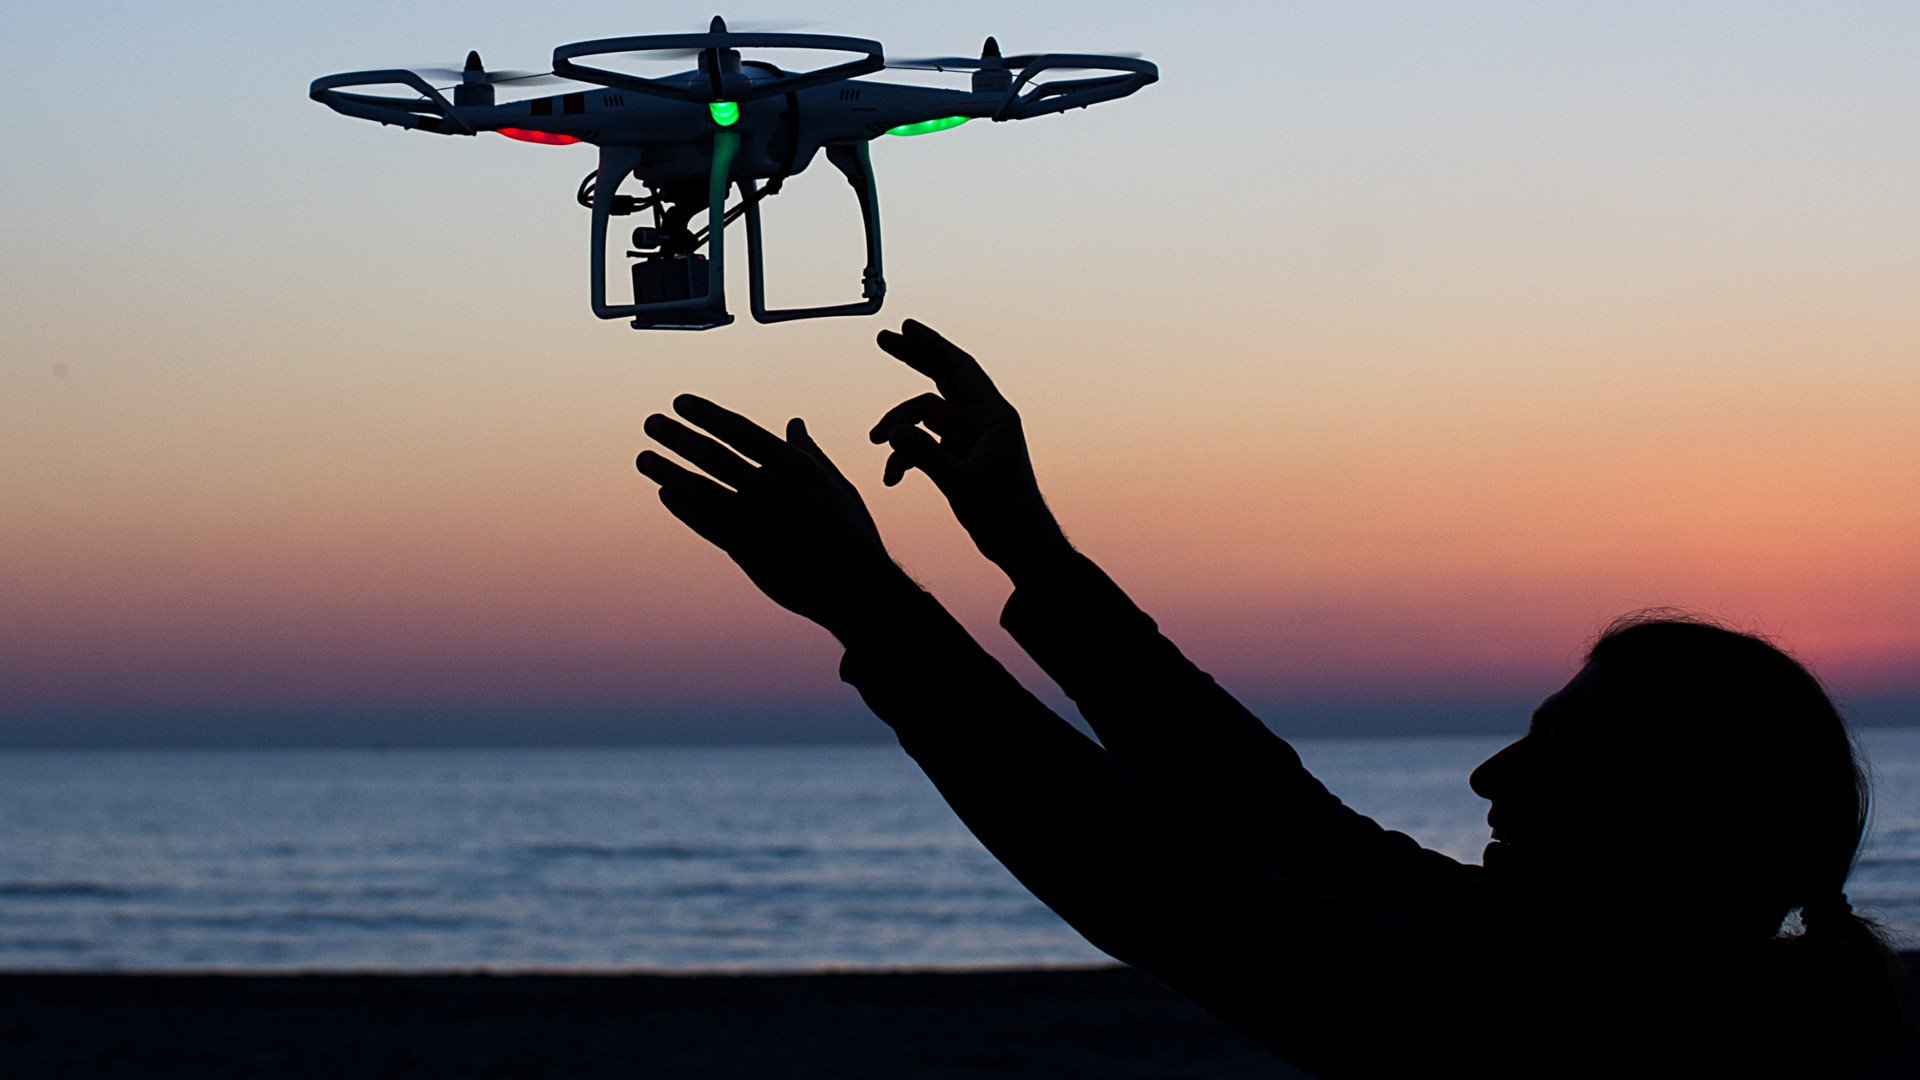drone: (309, 16, 1159, 335)
person: (636, 317, 1916, 1057)
